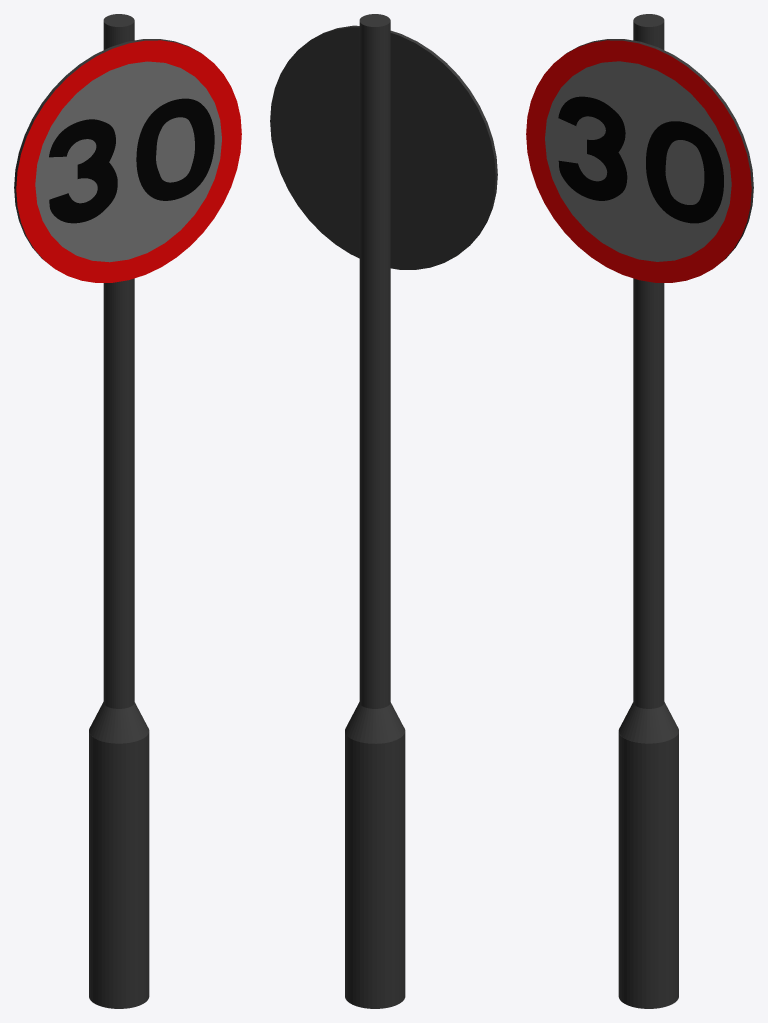
The model's file is speed limit sign.obj.
3 renders of one model, left to right at view 1: azimuth 30°, elevation 25°; view 2: azimuth 150°, elevation 25°; view 3: azimuth 330°, elevation 25°, orthographic.
Parts seen in each view (by area): view 1: Object01; view 2: Object01; view 3: Object01.
Part boxes in pixels (box(x1,y1,x2,y2)): Object01: box(14, 14, 241, 1008); Object01: box(270, 14, 497, 1008); Object01: box(526, 14, 753, 1008).
Size of the model in its own units: 23.62 by 97.61 by 5.49.
